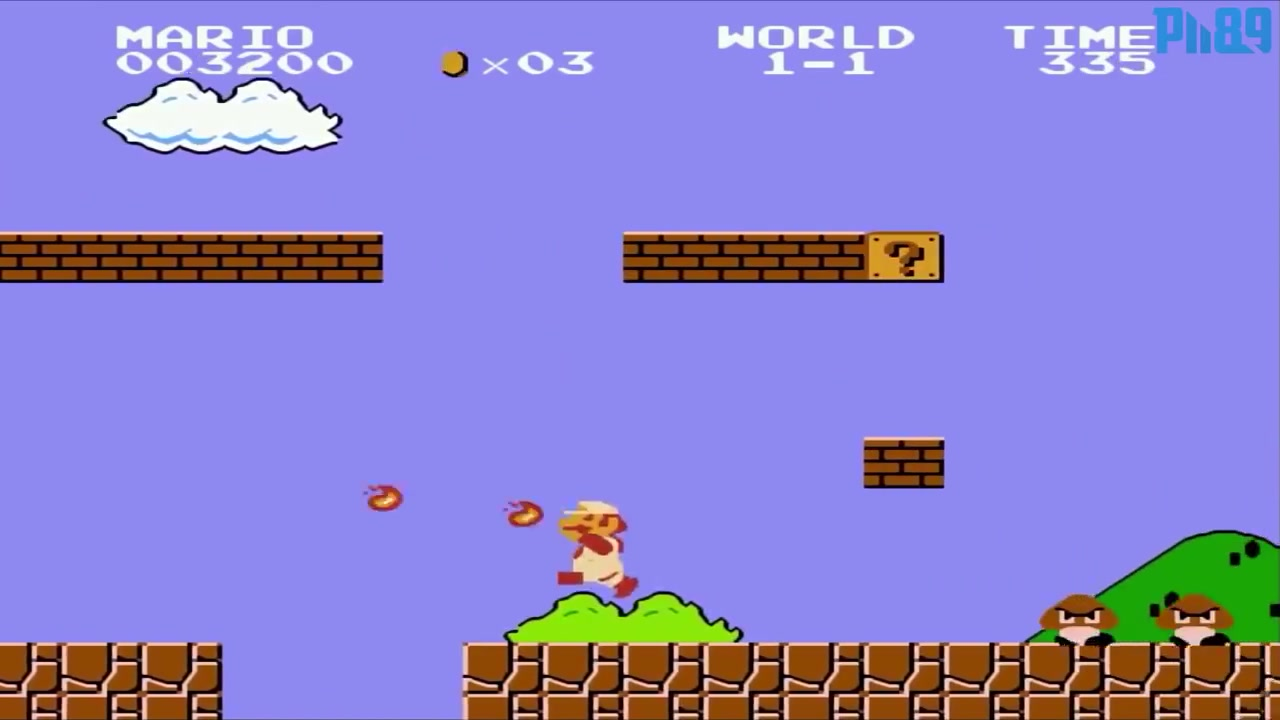mario: (545, 492, 644, 600)
